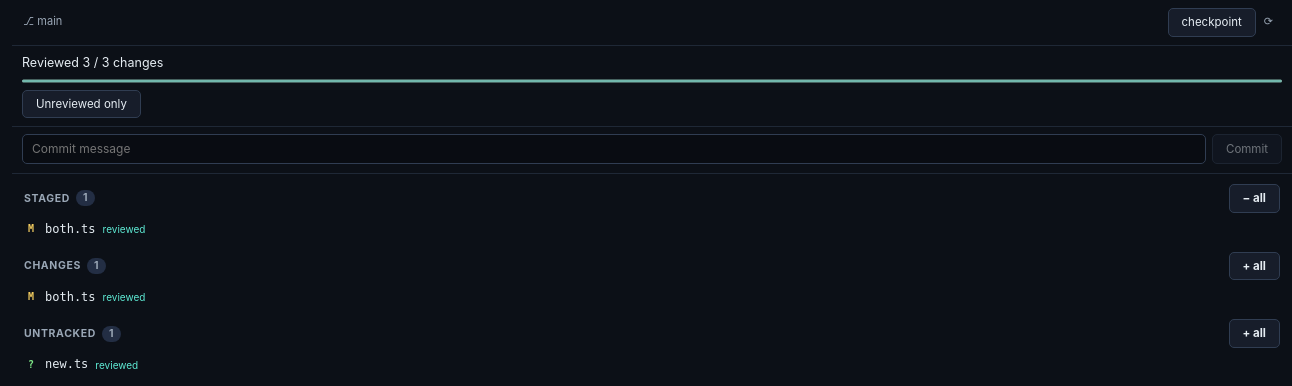
distinguishes an empty filtered result from a clean working tree
What coordinates should you click on to do the following:
click the button "Unreviewed only"
I would click on:
 (81, 104)
Its box is left=22, top=90, right=141, bottom=118.
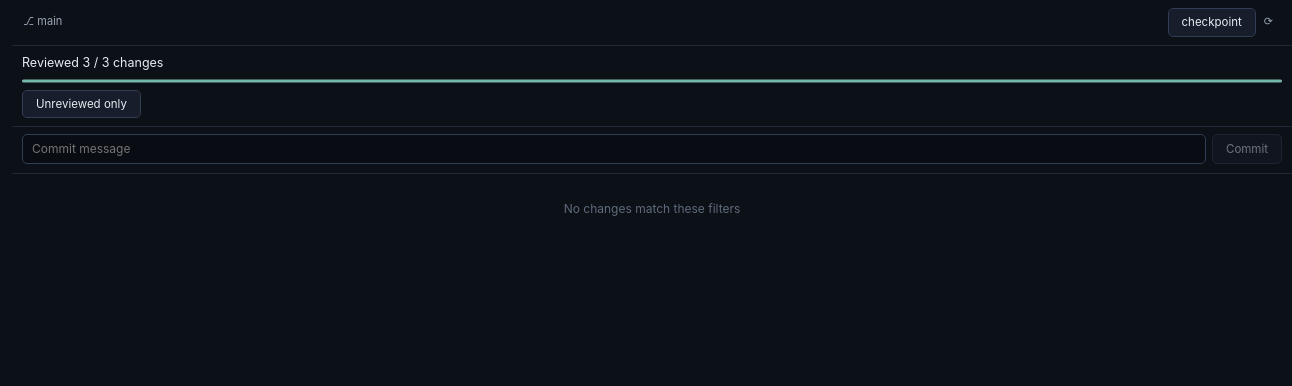
Check: the text "No changes match these filters" is shown, box left=564, top=201, right=740, bottom=216
